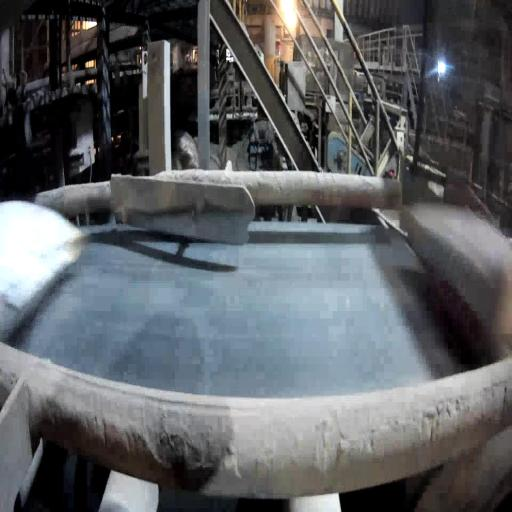c-belt-sack-count: (401, 204, 512, 358), (0, 201, 84, 341)
